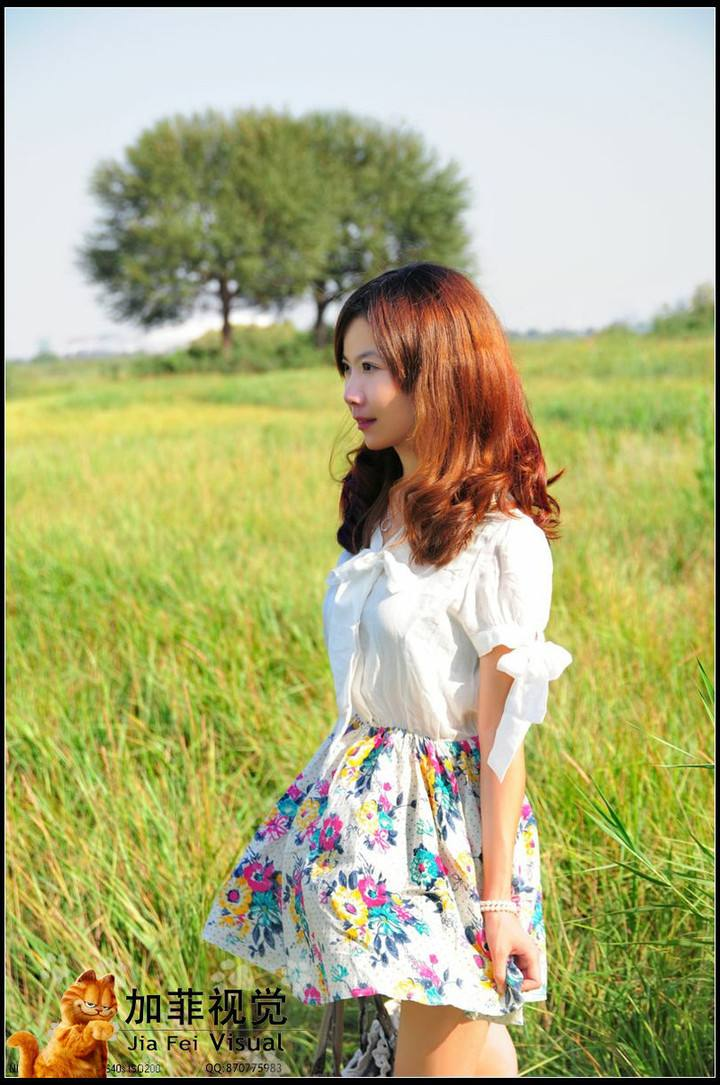person: (231, 203, 678, 1085)
